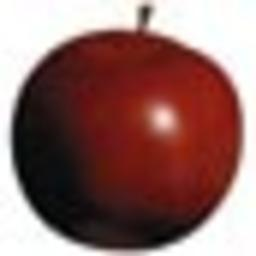apple: (13, 25, 242, 245)
